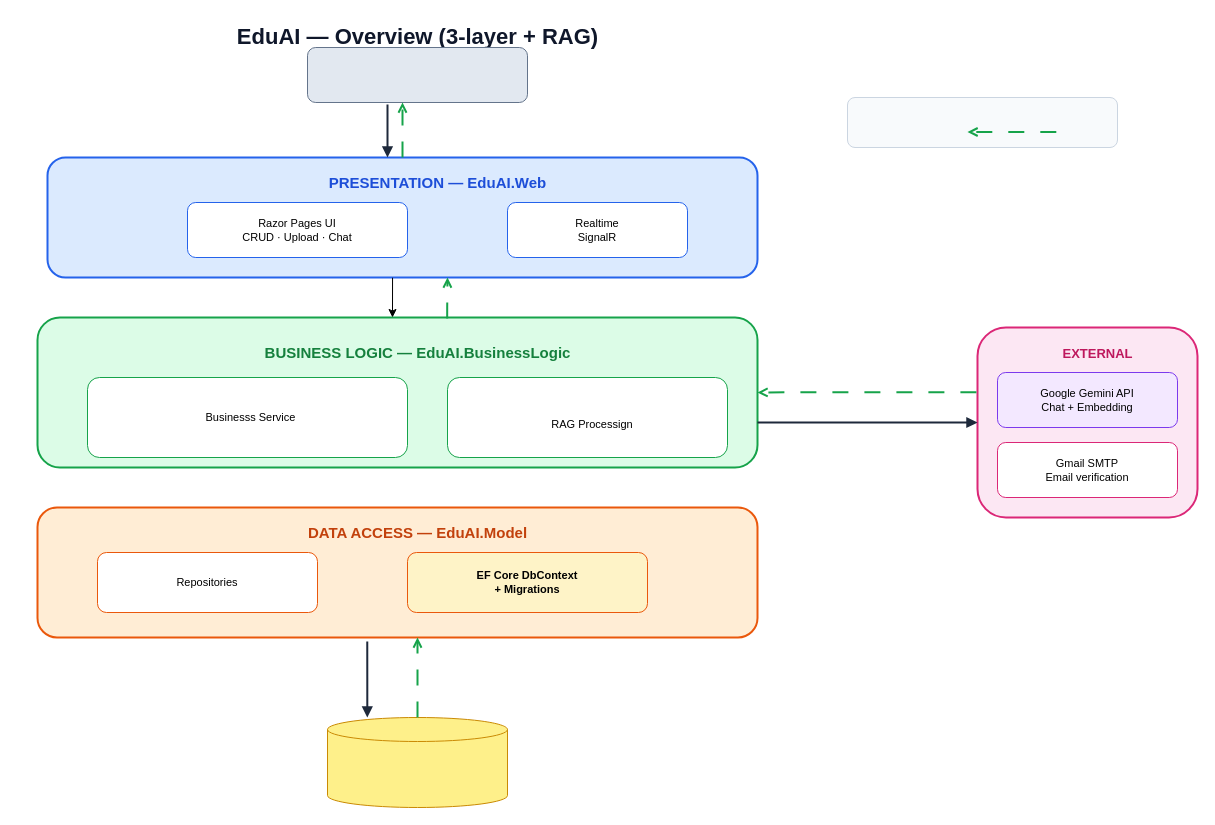
Image size: 1215x825. Some labels were removed from this diagram. Each missing label, with the centre of its shape:
"REQUEST ───► RESPONSE" goes at (x=982, y=122).
"SQL Server LocalDB EduAI" goes at (x=417, y=762).
"User (Browser) Admin · Teacher · Student" goes at (x=417, y=74).
